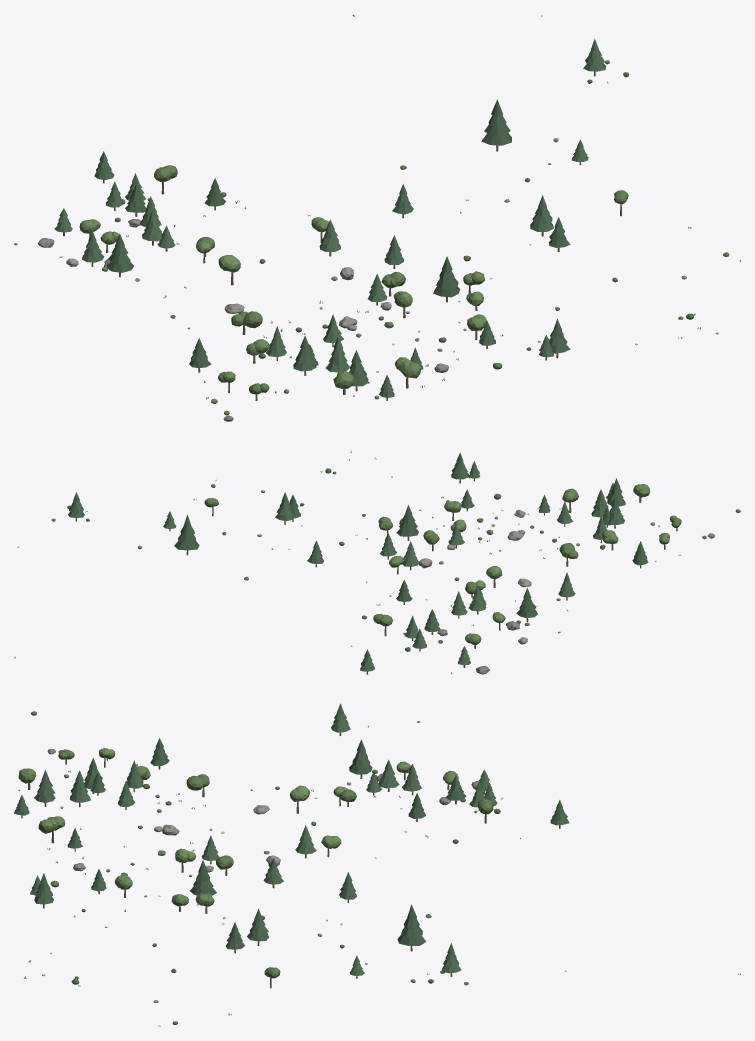
Rendered from arch_land_scatter_c17_18.glb.
3 views of the same model, one above another, from view 1: azimuth 30°, elevation 25°; view 2: azimuth 150°, elevation 25°; view 3: azimuth 270°, elevation 25° (orthographic). The views are drawn at different scales.
Parts seen in each view (by area): view 1: arch_land_scatter_c17_18; view 2: arch_land_scatter_c17_18; view 3: arch_land_scatter_c17_18.
Part boxes in pixels (x1,y1,x2,y2): arch_land_scatter_c17_18: (14,14,740,421); arch_land_scatter_c17_18: (14,450,740,674); arch_land_scatter_c17_18: (14,703,740,1026).
Size of the model in its own units: 220 by 34.3 by 241.
